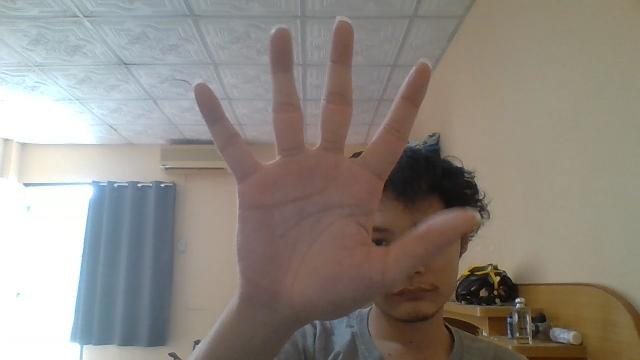Stop: (191, 16, 484, 324)
